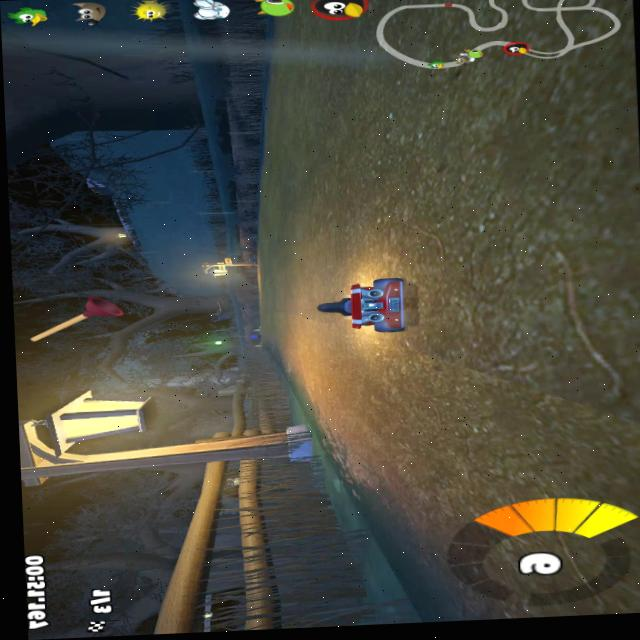player_kart: (311, 272, 422, 337)
track: (418, 261, 640, 622), (388, 0, 640, 271), (280, 0, 400, 276), (314, 334, 424, 450), (360, 446, 433, 611), (243, 80, 290, 288), (287, 277, 313, 396), (245, 288, 290, 349), (275, 346, 288, 368)
